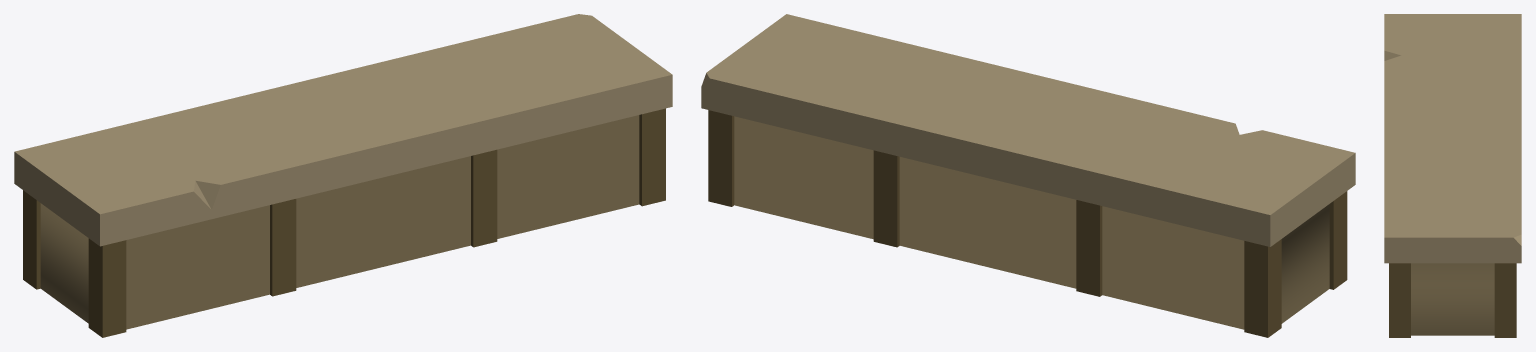
File: Desk 01.FBX
3 views of the same model, side by side, from view 1: azimuth 30°, elevation 25°; view 2: azimuth 150°, elevation 25°; view 3: azimuth 270°, elevation 25° (orthographic). The views are drawn at different scales.
Visible parts, largest first — view 1: Desk 01; view 2: Desk 01; view 3: Desk 01.
Boxes of the visible parts, x1=… form: Desk 01: x1=14, y1=14, x2=672, y2=337; Desk 01: x1=701, y1=14, x2=1355, y2=337; Desk 01: x1=1384, y1=14, x2=1521, y2=337.
Size of the model in its own units: 354 by 75.13 by 91.85.
